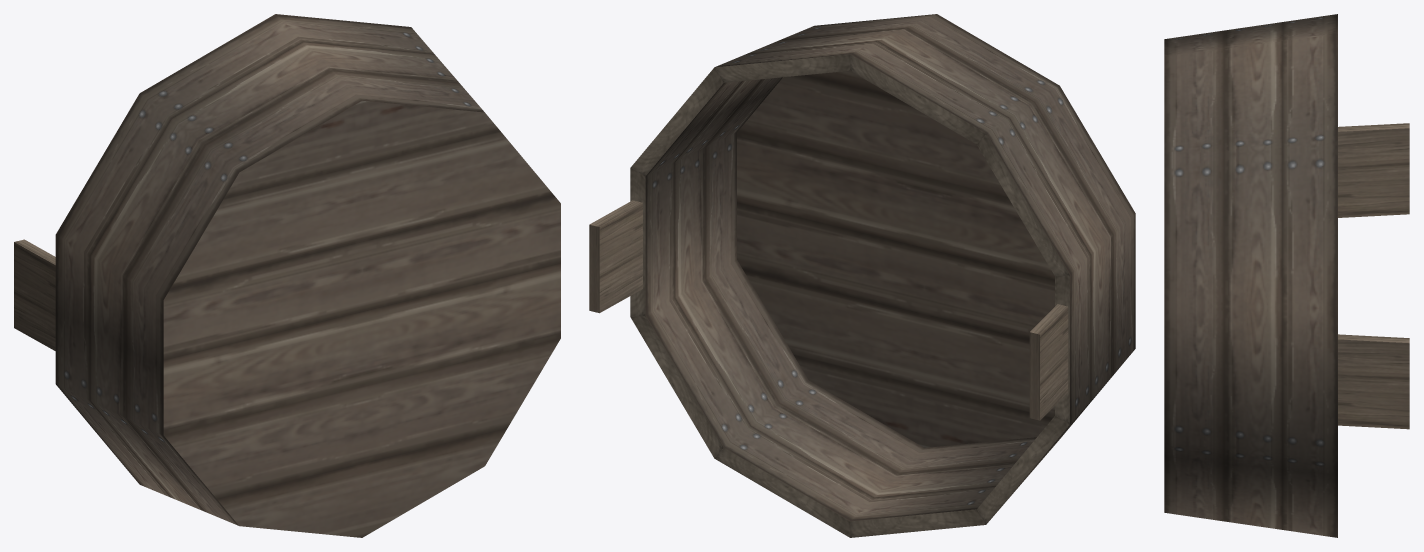
The model's file is Bathtub_Empty.fbx.
3 views of the same model, side by side, from view 1: azimuth 30°, elevation 25°; view 2: azimuth 150°, elevation 25°; view 3: azimuth 270°, elevation 25° (orthographic).
Parts seen in each view (by area): view 1: Bathtub_Empty; view 2: Bathtub_Empty; view 3: Bathtub_Empty.
Boxes of the visible parts, bbox=[...] form: Bathtub_Empty: bbox=[14, 14, 560, 537]; Bathtub_Empty: bbox=[589, 14, 1135, 537]; Bathtub_Empty: bbox=[1164, 14, 1409, 537].
Size of the model in its own units: 2.82 by 2.89 by 1.33.
